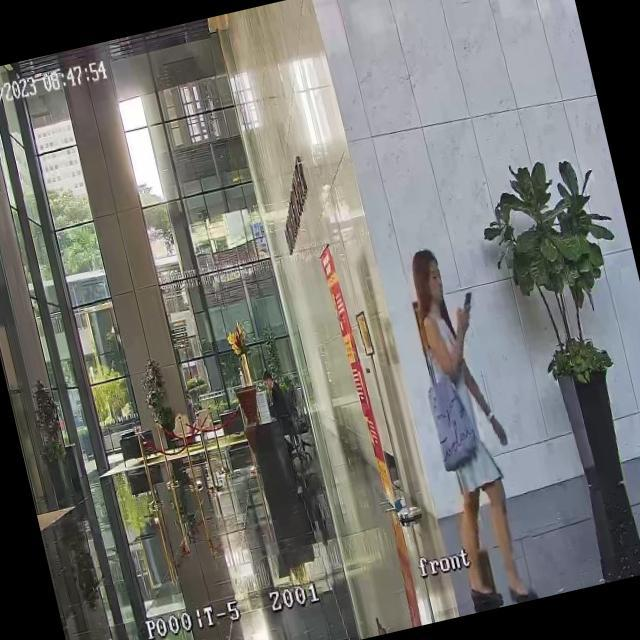person: (392, 238, 542, 610), (258, 364, 304, 462)
